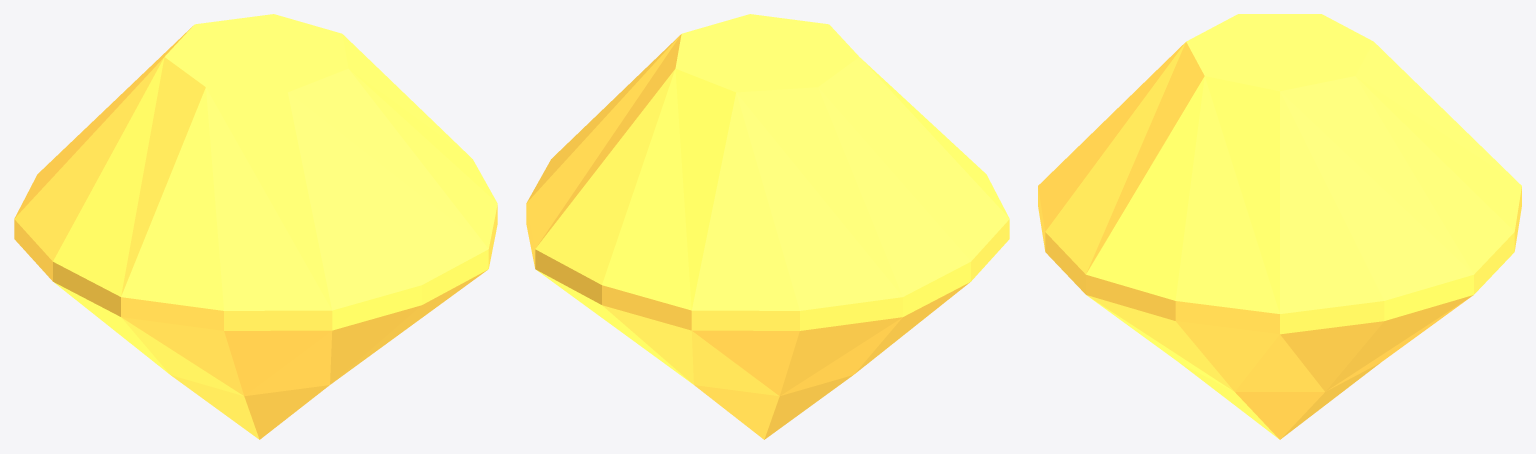
File: amber.glb
The picture shows the model from 3 angles, left to right: view 1: azimuth 30°, elevation 25°; view 2: azimuth 150°, elevation 25°; view 3: azimuth 270°, elevation 25°; orthographic projection.
Parts seen in each view (by area): view 1: gem; view 2: gem; view 3: gem.
Part boxes in pixels (bbox=[...]): gem: bbox=[14, 14, 497, 439]; gem: bbox=[526, 14, 1009, 439]; gem: bbox=[1038, 14, 1521, 439].
Bounding box in the file's own units: 1.27 × 1.11 × 1.25.
